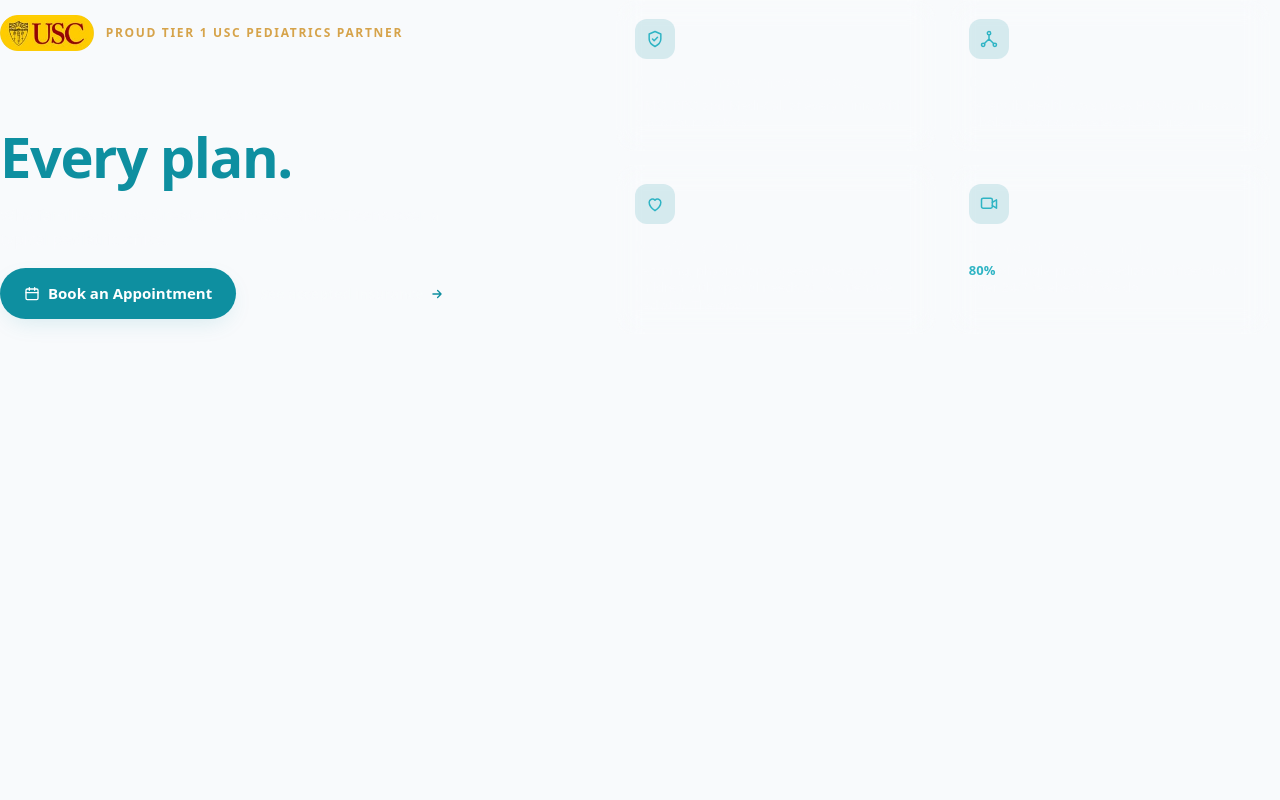
HeroWhySlide › opens the booking chooser and links to accepted insurance
Click the button "Book an Appointment": (118, 294) 0,268 -> 236,319
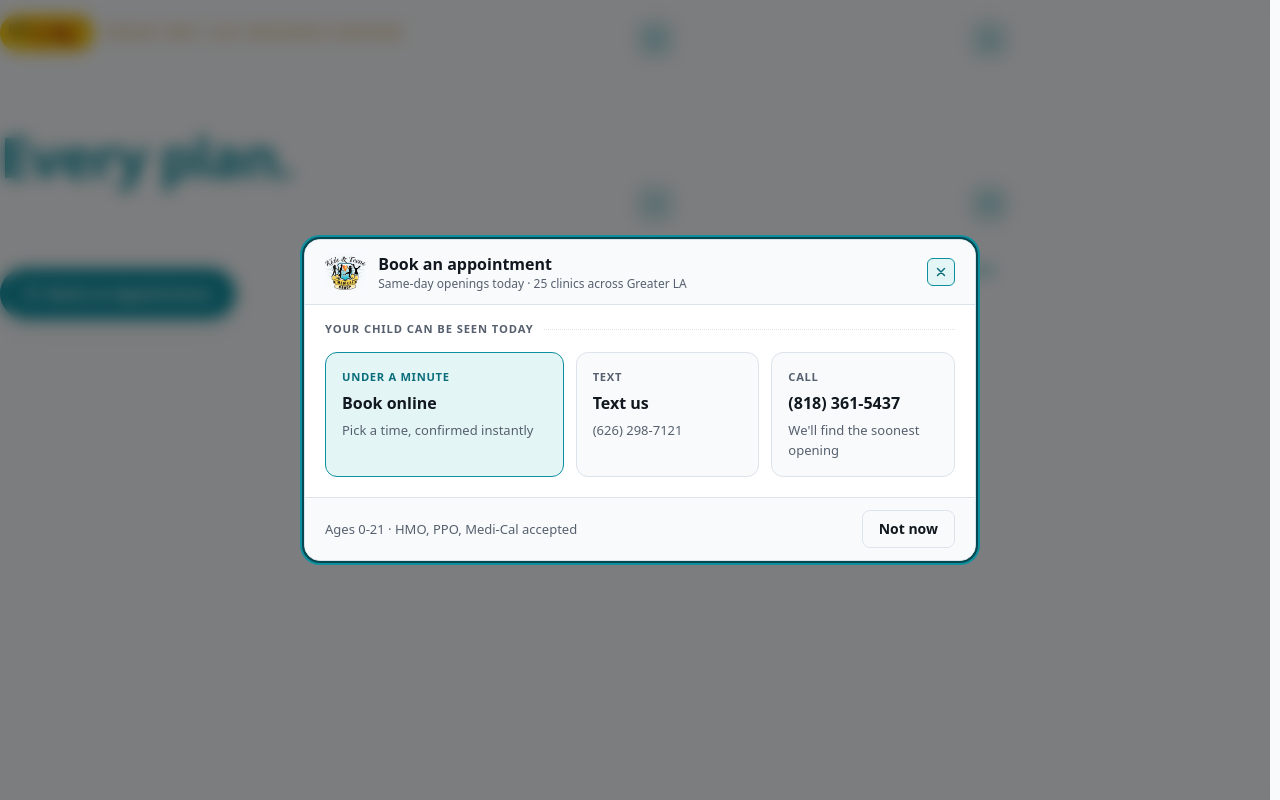
Expected: the dialog is shown, 304,239 -> 976,561
